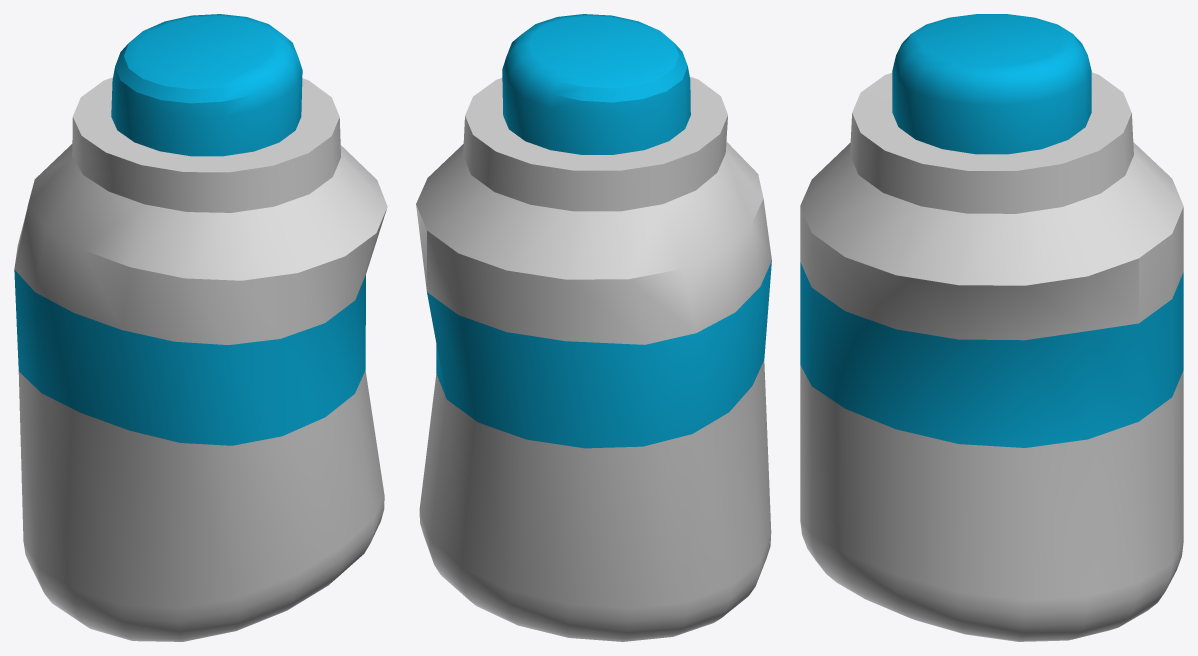
The model's file is suSiseCop.fbx.
The picture shows the model from 3 angles, left to right: view 1: azimuth 30°, elevation 25°; view 2: azimuth 150°, elevation 25°; view 3: azimuth 270°, elevation 25°; orthographic projection. The views are drawn at different scales.
Parts seen in each view (by area): view 1: suSise; view 2: suSise; view 3: suSise.
Part boxes in pixels (x1,y1,x2,y2): suSise: (14,14,387,641); suSise: (416,14,771,641); suSise: (800,14,1183,641).
Size of the model in its own units: 8.37 by 14.12 by 8.55.
